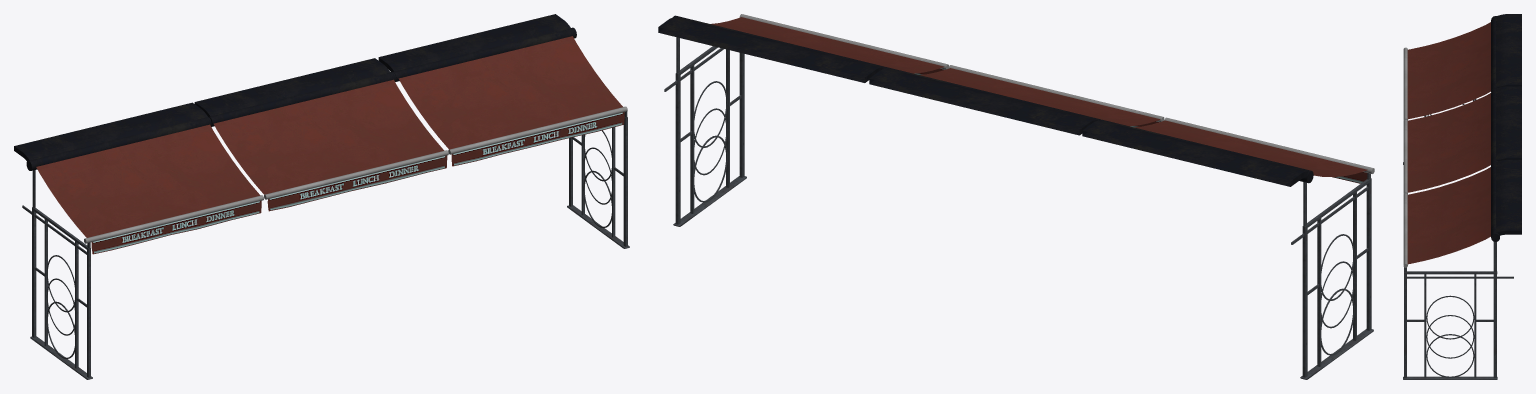
Rendered from sm0039_arcadecaferoof01.fbx.
3 views of the same model, side by side, from view 1: azimuth 30°, elevation 25°; view 2: azimuth 150°, elevation 25°; view 3: azimuth 270°, elevation 25° (orthographic). The views are drawn at different scales.
Visible parts, largest first — view 1: LOD_1_Group_0_Sub_1__sm0039_arcadecaferoof01_Mat, LOD_1_Group_0_Sub_2__sm0039_arcadecaferoof_C_Mat; view 2: LOD_1_Group_0_Sub_1__sm0039_arcadecaferoof01_Mat, LOD_1_Group_0_Sub_2__sm0039_arcadecaferoof_C_Mat; view 3: LOD_1_Group_0_Sub_1__sm0039_arcadecaferoof01_Mat, LOD_1_Group_0_Sub_2__sm0039_arcadecaferoof_C_Mat.
Part boxes in pixels (box(x1,y1,x2,y2)): LOD_1_Group_0_Sub_1__sm0039_arcadecaferoof01_Mat: box(14, 14, 627, 254); LOD_1_Group_0_Sub_2__sm0039_arcadecaferoof_C_Mat: box(22, 111, 629, 379); LOD_1_Group_0_Sub_1__sm0039_arcadecaferoof01_Mat: box(658, 14, 1374, 186); LOD_1_Group_0_Sub_2__sm0039_arcadecaferoof_C_Mat: box(664, 37, 1373, 379); LOD_1_Group_0_Sub_1__sm0039_arcadecaferoof01_Mat: box(1403, 14, 1521, 267); LOD_1_Group_0_Sub_2__sm0039_arcadecaferoof_C_Mat: box(1403, 99, 1513, 379).
Bounding box in the file's own units: 1221 × 388 × 281.
